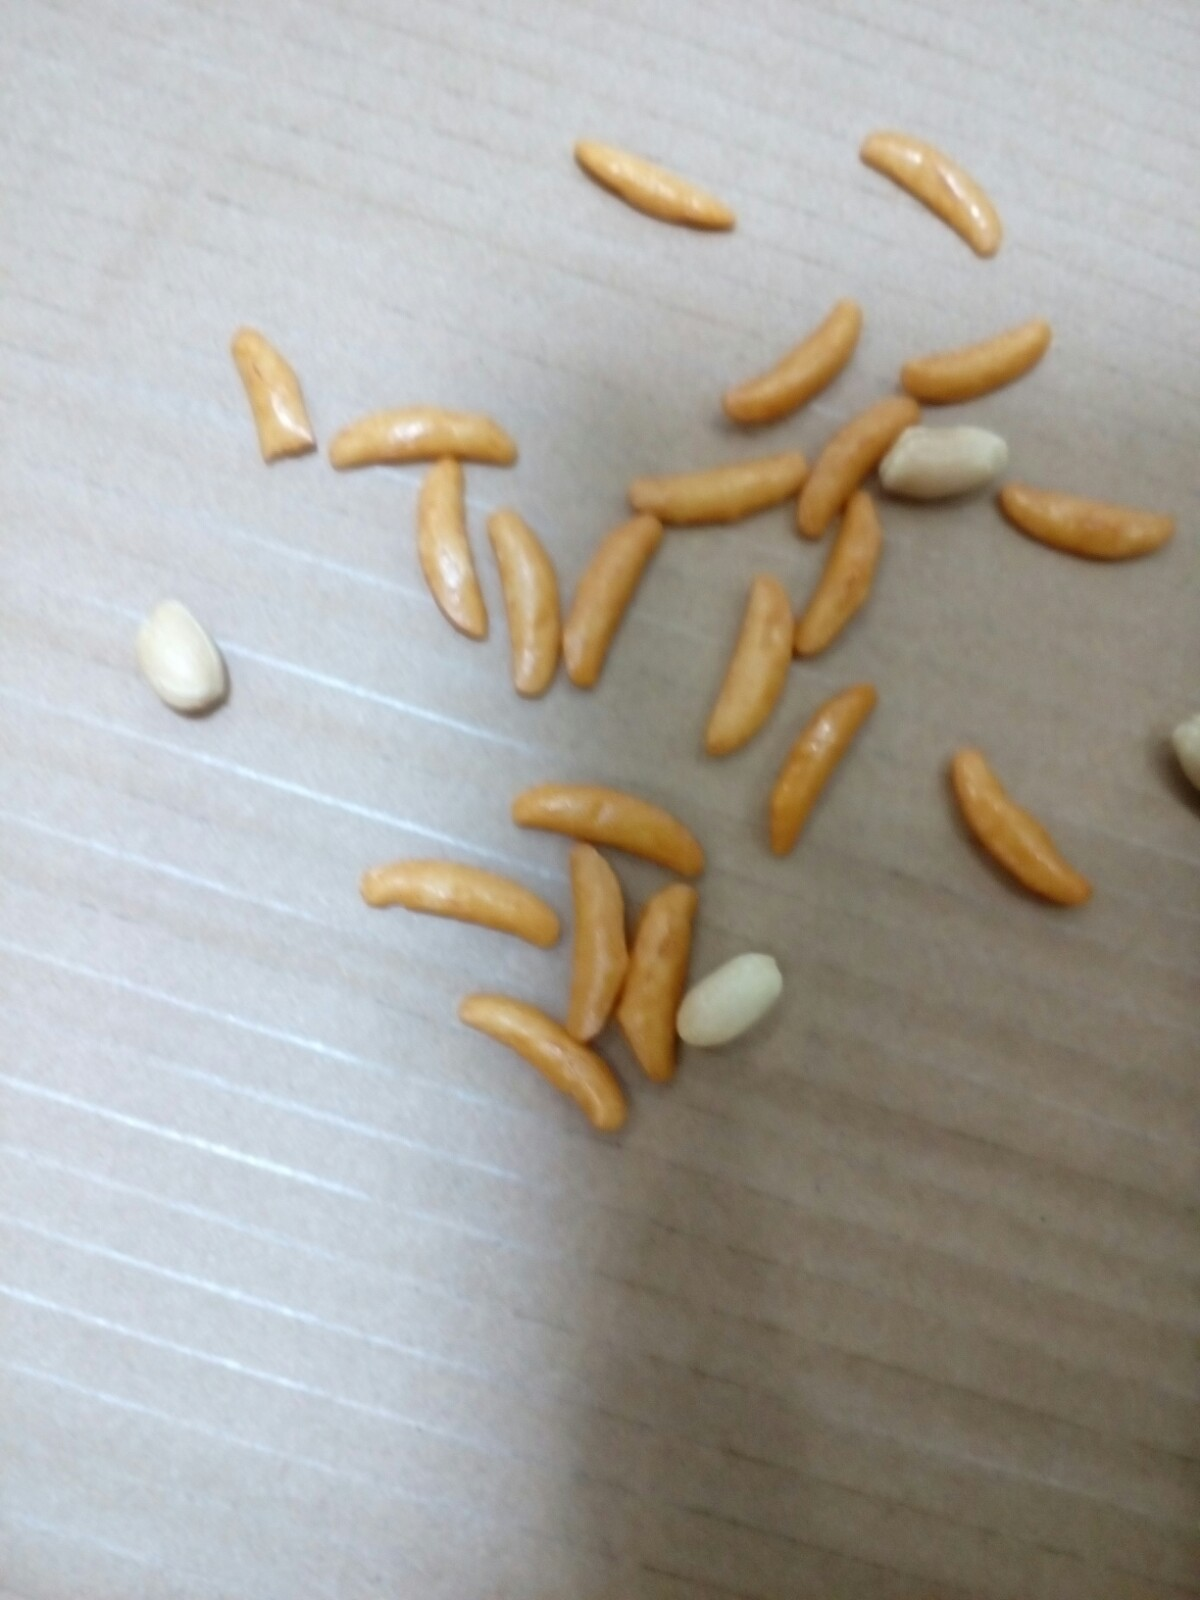peanut: (120, 585, 239, 729), (650, 944, 795, 1053), (868, 416, 1018, 514)
